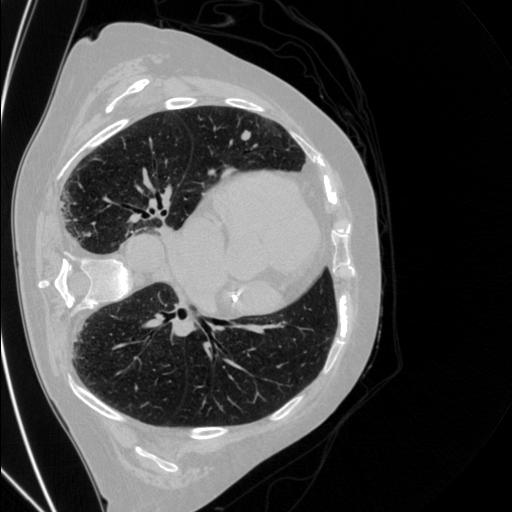nodule: (240, 130, 255, 145)
